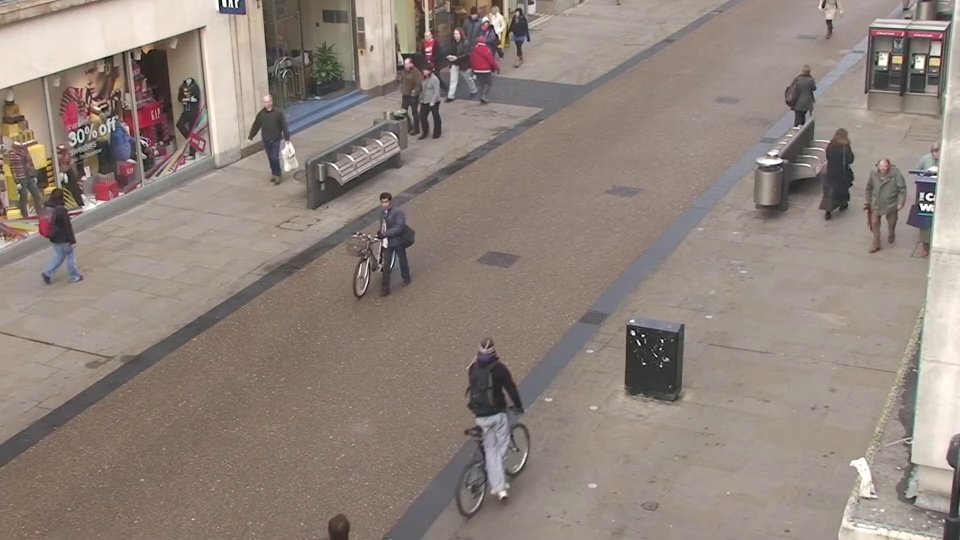pedestrian: (480, 318, 528, 466), (49, 177, 100, 287), (904, 143, 953, 250), (855, 155, 900, 263), (361, 191, 402, 307), (823, 119, 862, 217), (249, 97, 283, 186), (788, 60, 821, 142), (407, 64, 436, 145), (388, 58, 417, 137), (474, 31, 500, 103), (440, 26, 465, 97), (414, 26, 439, 96), (472, 16, 496, 83), (459, 7, 483, 72), (505, 7, 529, 72), (480, 3, 503, 67)
